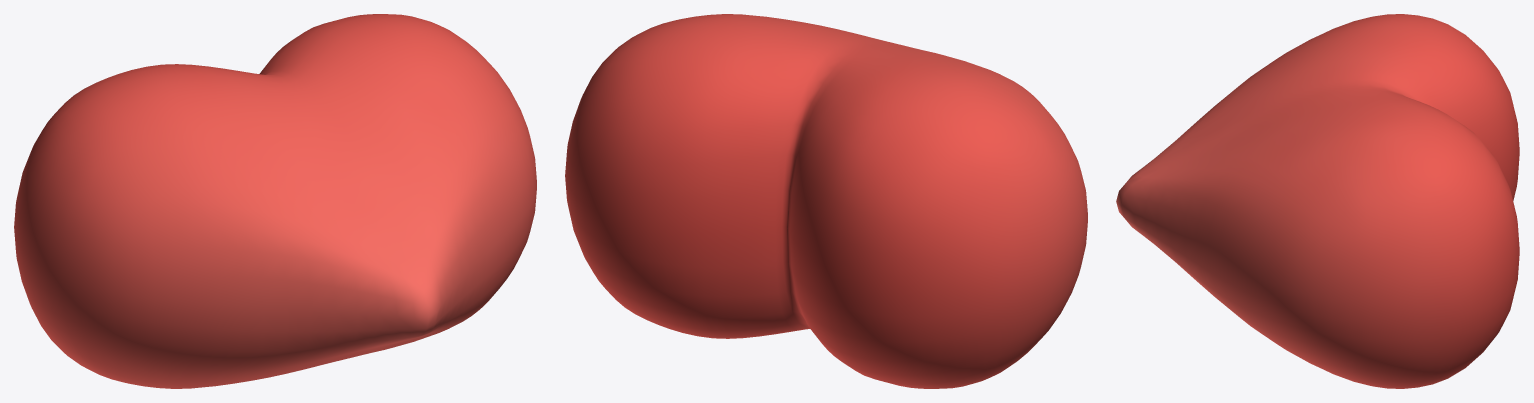
Rendered from m_Heart_Red.fbx.
3 renders of one model, left to right at view 1: azimuth 30°, elevation 25°; view 2: azimuth 150°, elevation 25°; view 3: azimuth 270°, elevation 25°, orthographic. The views are drawn at different scales.
Visible parts, largest first — view 1: Cube; view 2: Cube; view 3: Cube.
Boxes of the visible parts, x1,y1,x2,y2 form: Cube: [14, 14, 536, 388]; Cube: [565, 14, 1087, 388]; Cube: [1116, 14, 1519, 388].
Bounding box in the file's own units: 14.39 × 8.45 × 12.05.
Materials: 1 (1 with a texture image).
